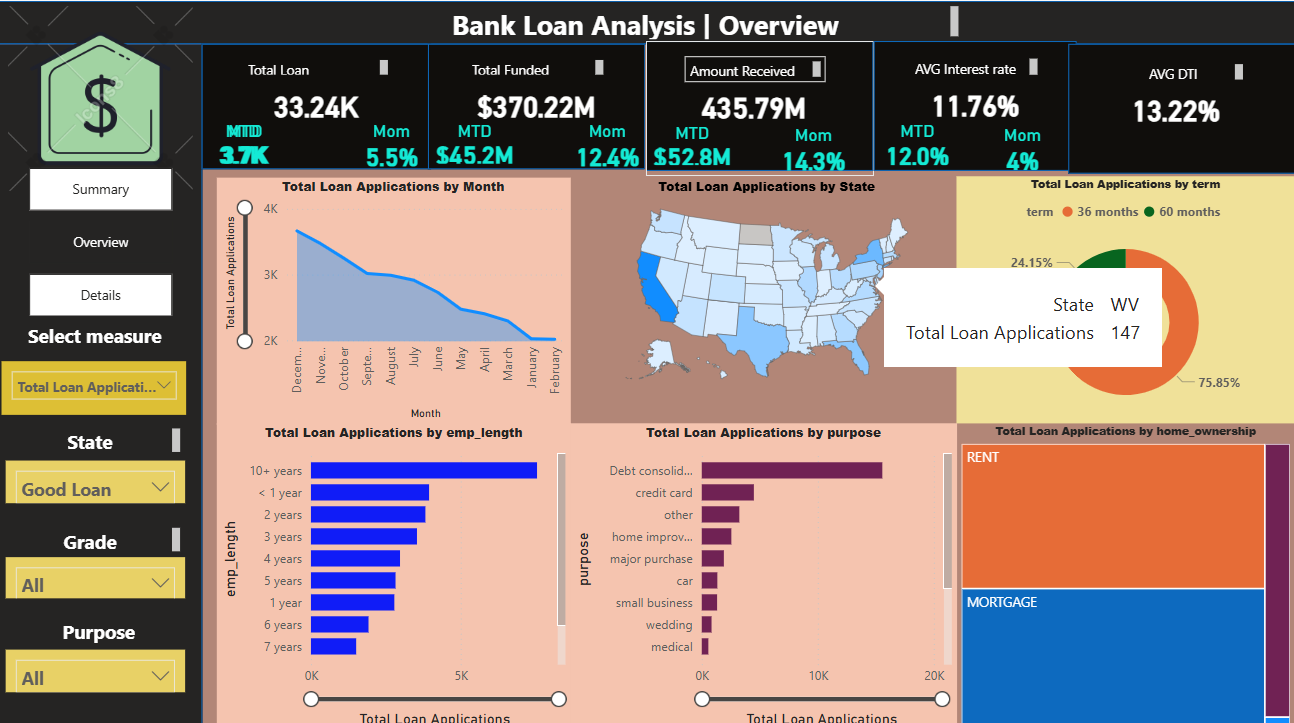

What the dashboard file says about the page in this screenshot:
{"tool":"powerbi","page":{"name":"Overview","canvas":[1280,720],"ordinal":1},"visuals":[{"type":"shape","box":[640,40,224,128],"z":0,"group":"g5"},{"type":"shape","box":[864,40,200,128],"z":0,"group":"g6"},{"type":"shape","box":[2,42,202,678],"z":0},{"type":"shape","box":[202,42,226,123.7],"z":0,"group":"g1"},{"type":"shape","box":[426,42,214,123.7],"z":0,"group":"g3"},{"type":"shape","box":[1056,42,224,128],"z":0,"group":"g7"},{"type":"shape","box":[0,0,1280.2,42.5],"z":1000},{"type":"card","title":"Total Loan Applications","fields":{"Values":["loanAnalysis.Average Interest Rate"]},"box":[887.1,77.1,153.7,51.6],"z":1000,"group":"g6"},{"type":"card","title":"Total Loan Applications","fields":{"Values":["loanAnalysis.Total Loan Applications"]},"box":[228.1,77.9,173.7,49.9],"z":1000,"group":"g1"},{"type":"card","title":"Total Loan Applications","fields":{"Values":["loanAnalysis.Total funded Amount"]},"box":[450.8,77.9,164.5,49.9],"z":1000,"group":"g3"},{"type":"card","title":"Total Loan Applications","fields":{"Values":["loanAnalysis.Total amoutn recieved"]},"box":[664.5,80,163,50],"z":1000,"group":"g5"},{"type":"card","title":"Total Loan Applications","fields":{"Values":["loanAnalysis.average dti"]},"box":[1080.5,82,163,50],"z":1000,"group":"g7"},{"type":"textbox","box":[444.8,0,508.6,42.5],"z":2000},{"type":"textbox","box":[899.5,51.7,130.9,25.8],"z":2000,"group":"g6"},{"type":"textbox","box":[242.2,53.3,147.9,24.9],"z":2000,"group":"g1"},{"type":"textbox","box":[464,53.3,140,24.9],"z":2000,"group":"g3"},{"type":"textbox","box":[677.7,55.3,138.8,25],"z":2000,"group":"g5"},{"type":"textbox","box":[1093.7,57.3,138.8,25],"z":2000,"group":"g7"},{"type":"group","id":"g1","title":"Group 1","box":[202,42,226,126],"z":3000},{"type":"card","title":"MTD","fields":{"Values":["loanAnalysis.MTD Loan Applications"]},"box":[203.2,118.1,77.8,46.5],"z":3000,"group":"g1"},{"type":"card","title":"MTD","fields":{"Values":["loanAnalysis.MTD Funded Amount"]},"box":[426,118.1,92,46.9],"z":3000,"group":"g3"},{"type":"card","title":"MTD","fields":{"Values":["loanAnalysis.MTD average interest rate"]},"box":[864,118.8,86,48.5],"z":3000,"group":"g6"},{"type":"card","title":"MTD","fields":{"Values":["loanAnalysis.MTD Amount Received"]},"box":[640,120.3,91.1,47],"z":3000,"group":"g5"},{"type":"card","title":"Mom","fields":{"Values":["loanAnalysis.MOM Loan Application"]},"box":[349.6,118.1,77.8,49.9],"z":4000,"group":"g1"},{"type":"card","title":"Mom","fields":{"Values":["loanAnalysis.MOM  Funded amount"]},"box":[565.7,118.1,73.7,49.9],"z":4000,"group":"g3"},{"type":"card","title":"MTD","fields":{"Values":["loanAnalysis.MTD Loan Applications"]},"box":[203.3,118.3,83.3,46.7],"z":4000},{"type":"card","title":"Mom","fields":{"Values":["loanAnalysis.MOM amount received"]},"box":[765,122.5,80,50],"z":4000,"group":"g5"},{"type":"card","title":"Mom","fields":{"Values":["loanAnalysis.MOM average interest rate"]},"box":[981.4,122.6,59.5,49.5],"z":4000,"group":"g6"},{"type":"group","id":"g2","title":"Group 1","box":[426,42,214,126],"z":5000},{"type":"group","id":"g3","title":"Group 2","box":[426,42,214,126],"z":5001,"group":"g2"},{"type":"group","id":"g4","title":"Group 2","box":[640,40,224,132.5],"z":6000},{"type":"group","id":"g5","title":"Group 3","box":[640,40,224,132.5],"z":6001,"group":"g4"},{"type":"group","id":"g6","title":"Group 3","box":[864,40,200,134],"z":6001,"group":"g8"},{"type":"group","id":"g7","title":"Group 3","box":[1056,42,224,128],"z":6001,"group":"g9"},{"type":"group","id":"g8","title":"Group 2","box":[864,40,200,134],"z":7000},{"type":"group","id":"g9","title":"Group 2","box":[1056,42,224,128],"z":8000},{"type":"slicer","fields":{"Values":["loanAnalysis.Good vs Bad Loan"]},"box":[9.5,452.7,176.7,42.1],"z":9000},{"type":"textbox","box":[6.8,416,179.5,34],"z":10000},{"type":"slicer","fields":{"Values":["loanAnalysis.grade"]},"box":[9.5,547.9,176.7,40.8],"z":11000},{"type":"slicer","fields":{"Values":["loanAnalysis.purpose"]},"box":[9.5,639,176.7,42.1],"z":12000},{"type":"textbox","box":[8.2,513.9,178.1,34],"z":13000},{"type":"textbox","box":[12.2,603.6,178.1,35.3],"z":14000},{"type":"lineChart","fields":{"Y":["loanAnalysis.Total Loan Applications"],"Category":["Date Table.Month"]},"box":[217.5,173.8,347.5,242.5],"z":15000},{"type":"slicer","fields":{"Values":["SELECT MEASURE.SELECT MEASURE"]},"box":[5.4,354.8,182.2,53],"z":16000},{"type":"textbox","box":[8.2,311.3,178.1,35.3],"z":17000},{"type":"shapeMap","fields":{"Value":["loanAnalysis.Total Loan Applications"],"Category":["loanAnalysis.address_state"]},"box":[582.5,173.8,355,212.5],"z":18000},{"type":"donutChart","fields":{"Y":["loanAnalysis.Total Loan Applications"],"Category":["loanAnalysis.term"]},"box":[946.7,173.3,333.3,243.3],"z":19000},{"type":"barChart","fields":{"Y":["loanAnalysis.Total Loan Applications"],"Category":["loanAnalysis.emp_length"]},"box":[217.5,416.2,348.8,303.8],"z":20000},{"type":"barChart","fields":{"Y":["loanAnalysis.Total Loan Applications"],"Category":["loanAnalysis.purpose"]},"box":[565,416.2,381.2,303.8],"z":21000},{"type":"treemap","fields":{"Values":["loanAnalysis.Total Loan Applications"],"Group":["loanAnalysis.home_ownership"]},"box":[946.7,416.7,333.3,303.3],"z":22000},{"type":"image","box":[6.8,0,191.7,191.7],"z":23000},{"type":"pageNavigator","box":[32.6,164.5,141.4,146.8],"z":24000}]}

Visuals, with their boxes on the page's 1280x720 design canvas (x1, y1, x2, y2). These are canvas units, not pixel positions in the 1294x723 screenshot, which may show the page scaled, cropped or inside an application window:
shape: 640:40:864:168
shape: 864:40:1064:168
shape: 2:42:204:720
shape: 202:42:428:166
shape: 426:42:640:166
shape: 1056:42:1280:170
shape: 0:0:1280:42
"Total Loan Applications" card: 887:77:1041:129
"Total Loan Applications" card: 228:78:402:128
"Total Loan Applications" card: 451:78:615:128
"Total Loan Applications" card: 664:80:828:130
"Total Loan Applications" card: 1080:82:1244:132
textbox: 445:0:953:42
textbox: 900:52:1030:78
textbox: 242:53:390:78
textbox: 464:53:604:78
textbox: 678:55:816:80
textbox: 1094:57:1232:82
"Group 1" group: 202:42:428:168
"MTD" card: 203:118:281:165
"MTD" card: 426:118:518:165
"MTD" card: 864:119:950:167
"MTD" card: 640:120:731:167
"Mom" card: 350:118:427:168
"Mom" card: 566:118:639:168
"MTD" card: 203:118:287:165
"Mom" card: 765:122:845:172
"Mom" card: 981:123:1041:172
"Group 1" group: 426:42:640:168
"Group 2" group: 426:42:640:168
"Group 2" group: 640:40:864:172
"Group 3" group: 640:40:864:172
"Group 3" group: 864:40:1064:174
"Group 3" group: 1056:42:1280:170
"Group 2" group: 864:40:1064:174
"Group 2" group: 1056:42:1280:170
slicer - loanAnalysis.Good vs Bad Loan: 10:453:186:495
textbox: 7:416:186:450
slicer - loanAnalysis.grade: 10:548:186:589
slicer - loanAnalysis.purpose: 10:639:186:681
textbox: 8:514:186:548
textbox: 12:604:190:639
lineChart - loanAnalysis.Total Loan Applications x Date Table.Month: 218:174:565:416
slicer - SELECT MEASURE.SELECT MEASURE: 5:355:188:408
textbox: 8:311:186:347
shapeMap - loanAnalysis.Total Loan Applications x loanAnalysis.address_state: 582:174:938:386
donutChart - loanAnalysis.Total Loan Applications x loanAnalysis.term: 947:173:1280:417
barChart - loanAnalysis.Total Loan Applications x loanAnalysis.emp_length: 218:416:566:720
barChart - loanAnalysis.Total Loan Applications x loanAnalysis.purpose: 565:416:946:720
treemap - loanAnalysis.Total Loan Applications x loanAnalysis.home_ownership: 947:417:1280:720
image: 7:0:198:192
pageNavigator: 33:164:174:311
